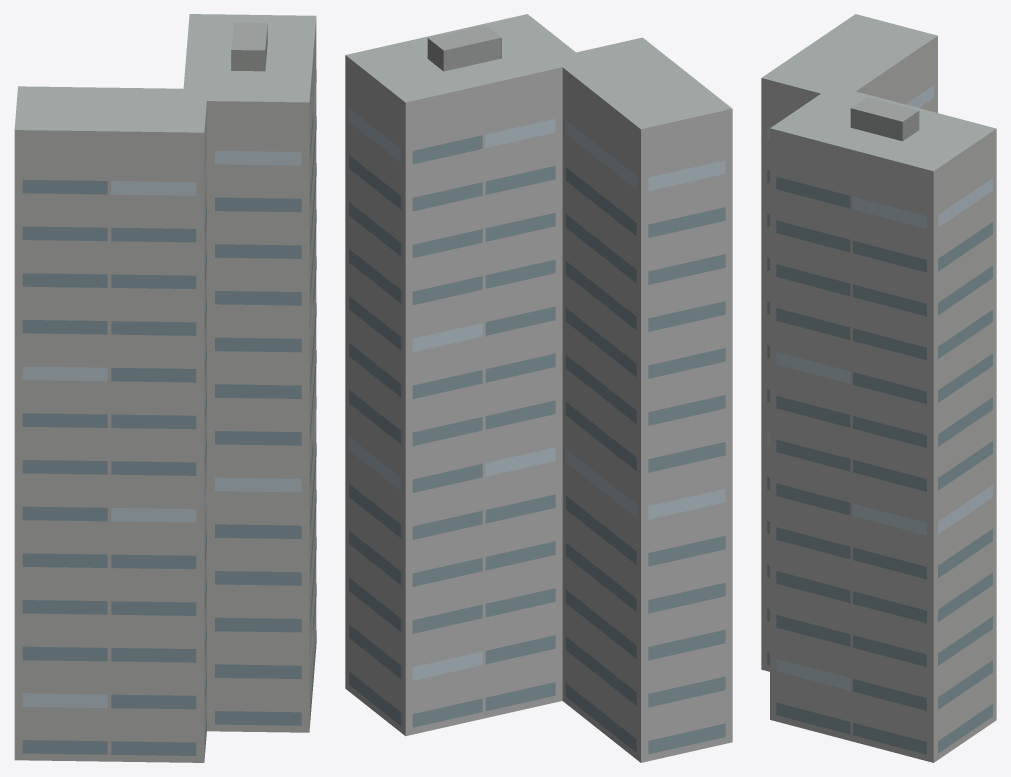
Rendered from fallback-jamsil-parkrio-316.glb.
3 views of the same model, side by side, from view 1: azimuth 30°, elevation 25°; view 2: azimuth 150°, elevation 25°; view 3: azimuth 270°, elevation 25° (orthographic). The views are drawn at different scales.
Parts seen in each view (by area): view 1: fallback-jamsil-parkrio-316; view 2: fallback-jamsil-parkrio-316; view 3: fallback-jamsil-parkrio-316.
Boxes of the visible parts, <box> form: fallback-jamsil-parkrio-316: <box>14,14,316,762</box>; fallback-jamsil-parkrio-316: <box>345,14,732,762</box>; fallback-jamsil-parkrio-316: <box>761,14,996,762</box>.
Size of the model in its own units: 41.4 by 75 by 26.17.
